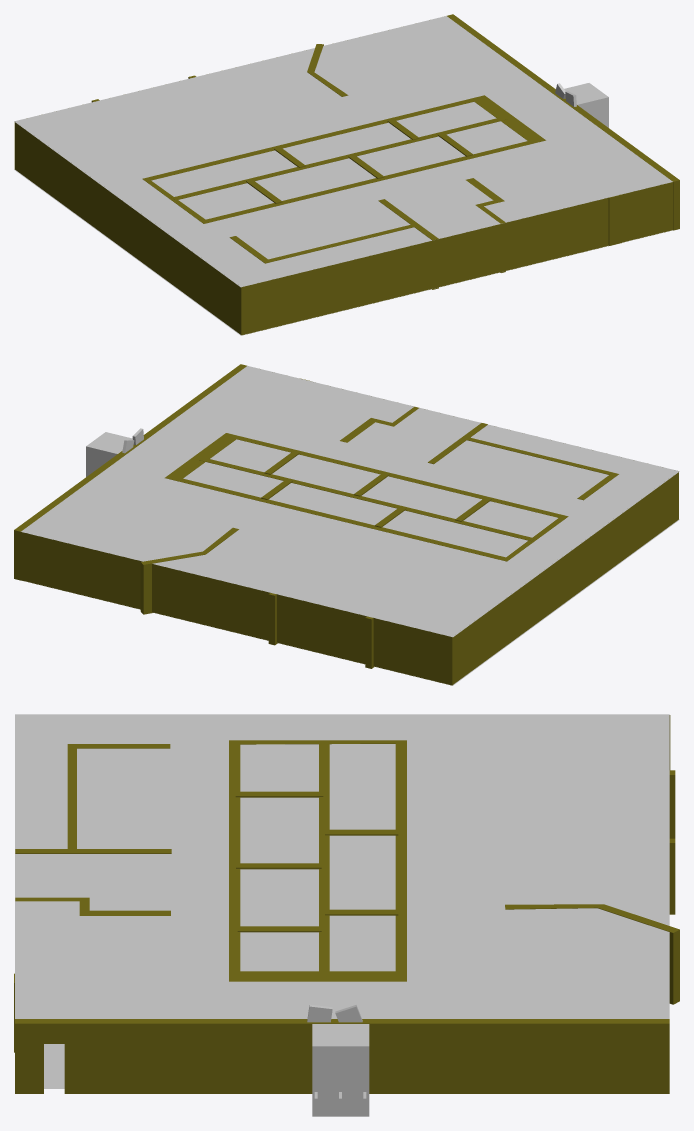
File: Location 1 level 1.obj
3 renders of one model, top to bottom at view 1: azimuth 30°, elevation 25°; view 2: azimuth 150°, elevation 25°; view 3: azimuth 270°, elevation 25°, orthographic. The views are drawn at different scales.
Parts seen in each view (by area): view 1: Floor_2, Main_Wall_3, Main_Wall_4, Secondary_walls_3, Main_Wall_1, Secondary_Wall_7, Elevator_walls, Secondary_Wall_2, Secondary_Wall_5, Secondary_Wall_6, Secondary_Wall_4, Floor_1; view 2: Floor_2, Main_Wall_2, Main_Wall_4, Secondary_walls_3, Main_Wall_1, Secondary_Wall_7, Secondary_Wall_13, Elevator_walls, Secondary_Wall_5; view 3: Floor_2, Main_Wall_1, Secondary_walls_3, Elevator_walls, Secondary_Wall_7, Secondary_Wall_13, Secondary_Wall_5, Secondary_Wall_4, Floor_1, Secondary_Wall_6, Secondary_Wall_11.
Boxes of the visible parts, box(x1,y1,x2,y2) form: Floor_2: box(14, 16, 672, 287); Main_Wall_3: box(241, 182, 672, 335); Main_Wall_4: box(15, 122, 241, 334); Secondary_walls_3: box(142, 95, 545, 223); Main_Wall_1: box(447, 14, 679, 230); Secondary_Wall_7: box(172, 116, 507, 200); Elevator_walls: box(564, 83, 608, 127); Secondary_Wall_2: box(184, 194, 622, 295); Secondary_Wall_5: box(229, 224, 415, 263); Secondary_Wall_6: box(378, 199, 438, 289); Secondary_Wall_4: box(466, 178, 505, 272); Floor_1: box(14, 169, 673, 335); Floor_2: box(21, 366, 679, 637); Main_Wall_2: box(20, 532, 452, 685); Main_Wall_4: box(452, 472, 678, 685); Secondary_walls_3: box(165, 433, 568, 561); Main_Wall_1: box(14, 364, 246, 580); Secondary_Wall_7: box(199, 457, 534, 540); Secondary_Wall_13: box(140, 527, 238, 614); Elevator_walls: box(86, 432, 132, 476); Secondary_Wall_5: box(467, 437, 618, 500); Floor_2: box(15, 714, 669, 1018); Main_Wall_1: box(15, 1019, 669, 1093); Secondary_walls_3: box(229, 740, 406, 981); Elevator_walls: box(312, 1024, 369, 1116); Secondary_Wall_7: box(319, 742, 329, 976); Secondary_Wall_13: box(505, 904, 679, 1004); Secondary_Wall_5: box(67, 744, 170, 849); Secondary_Wall_4: box(15, 897, 170, 915); Floor_1: box(44, 1044, 64, 1088); Secondary_Wall_6: box(15, 849, 171, 853); Secondary_Wall_11: box(235, 791, 323, 797).
Size of the model in its own units: 140 by 17.15 by 118.
